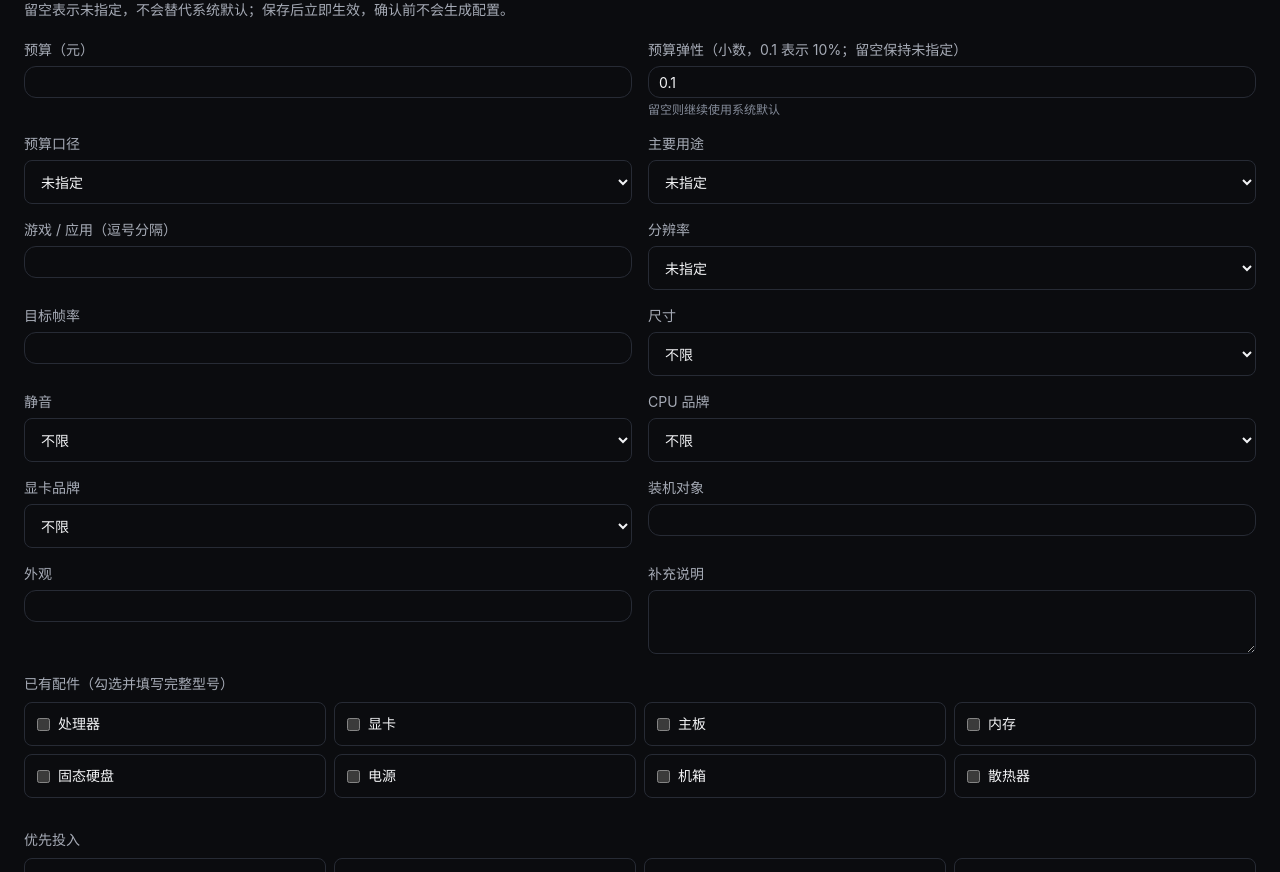
Scenario: RequirementFullEditor 批量编辑只提交实际改动 › 预算弹性超出 0–0.3 被拒绝
Replace the text in the number field labelled "预算弹性（小数，0.1 表示 10%；留空保持未指定） 留空则继续使用系统默认" with "0.5" at (952, 82), box [648,66,1256,98]
(page scrolled)
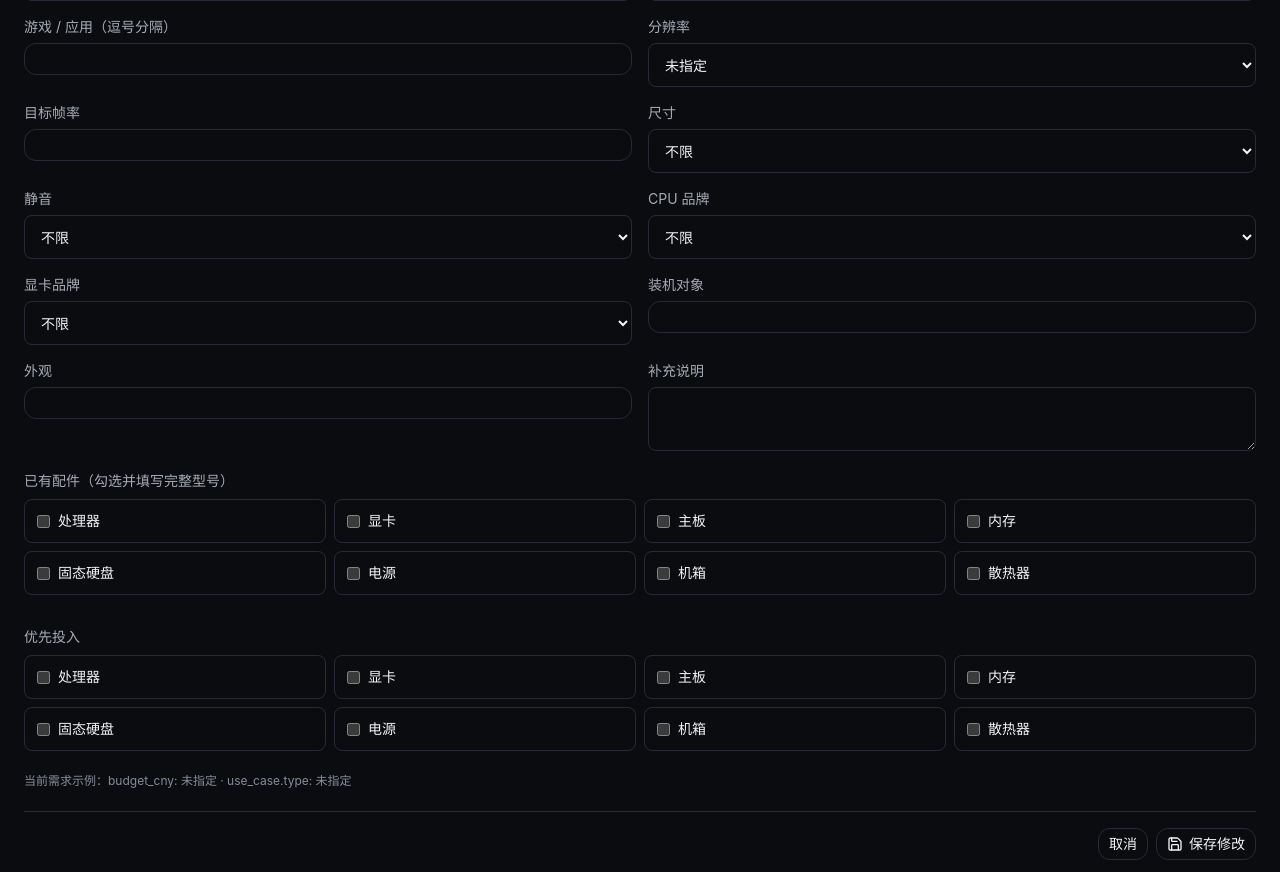
Click the button "保存修改".
click(1206, 844)  # box [1156,828,1256,860]
(page scrolled)
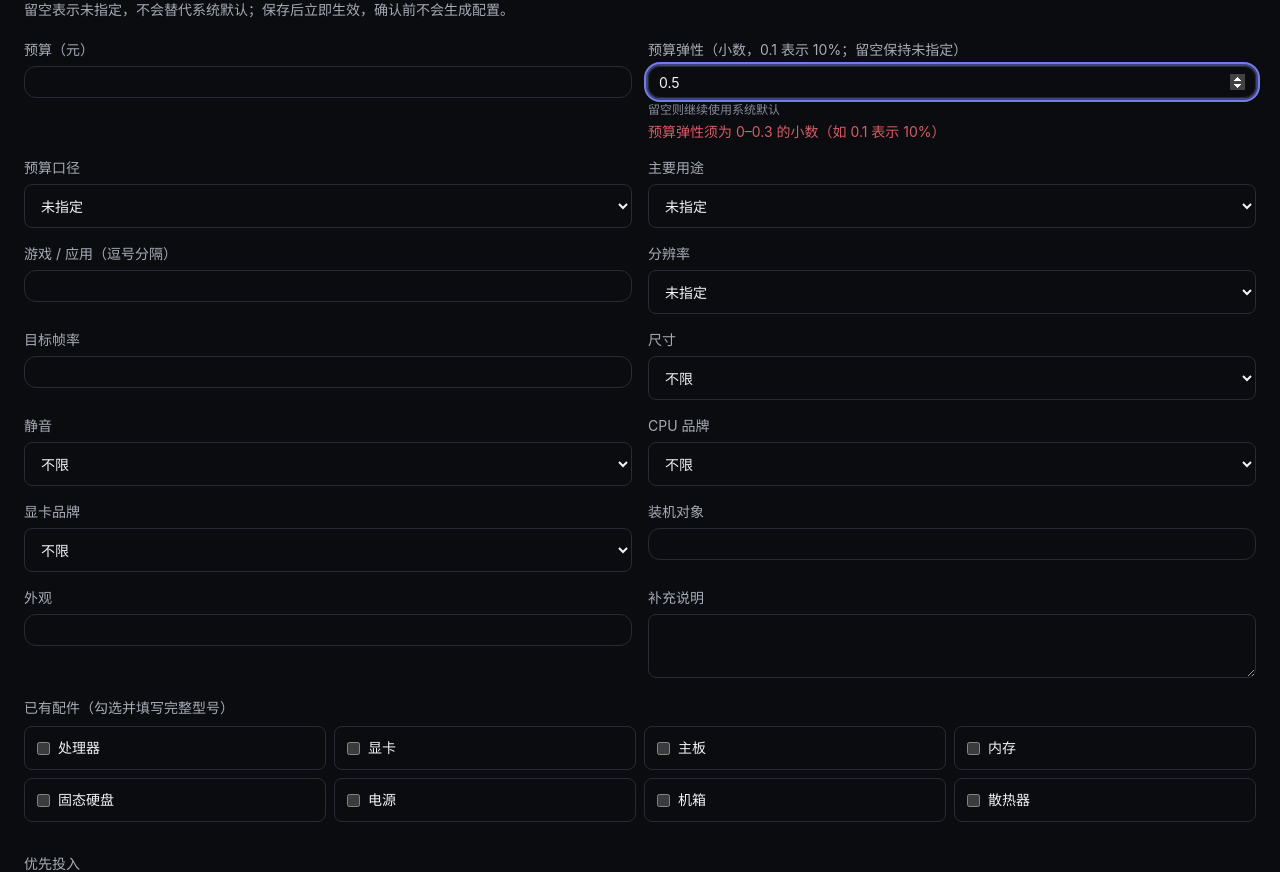
Result: the text "预算弹性须为 0–0.3 的小数（如 0.1 表示 10%）" is shown at [648,123,946,140]
